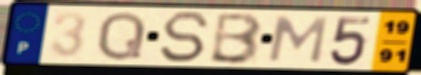3: (49, 10, 91, 60)
5: (328, 15, 375, 66)
B: (206, 11, 265, 66)
M: (265, 15, 331, 65)
Q: (94, 10, 148, 62)
S: (157, 10, 212, 65)
